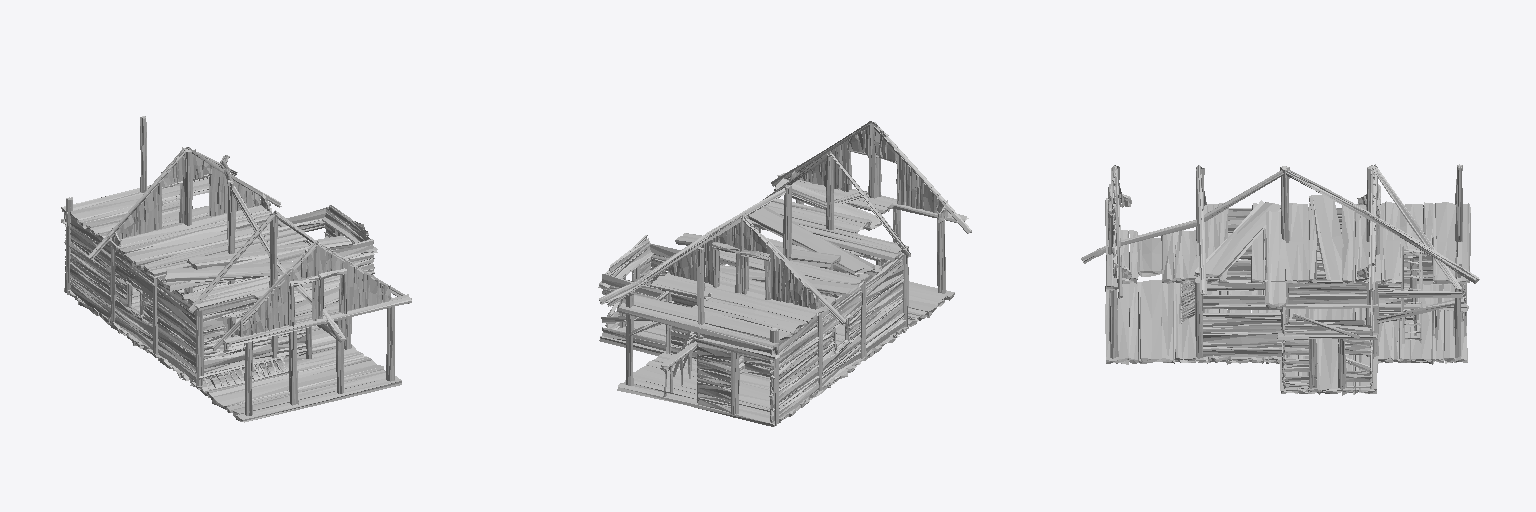
File: CasaWood.obj
3 renders of one model, left to right at view 1: azimuth 30°, elevation 25°; view 2: azimuth 150°, elevation 25°; view 3: azimuth 270°, elevation 25°, orthographic.
Visible parts, largest first — view 1: Cylinder.000; view 2: Cylinder.000; view 3: Cylinder.000.
Part boxes in pixels (x1,y1,x2,y2): Cylinder.000: (61, 116, 411, 422); Cylinder.000: (598, 121, 971, 426); Cylinder.000: (1081, 164, 1479, 395).
Size of the model in its own units: 13.42 by 8.39 by 18.77.